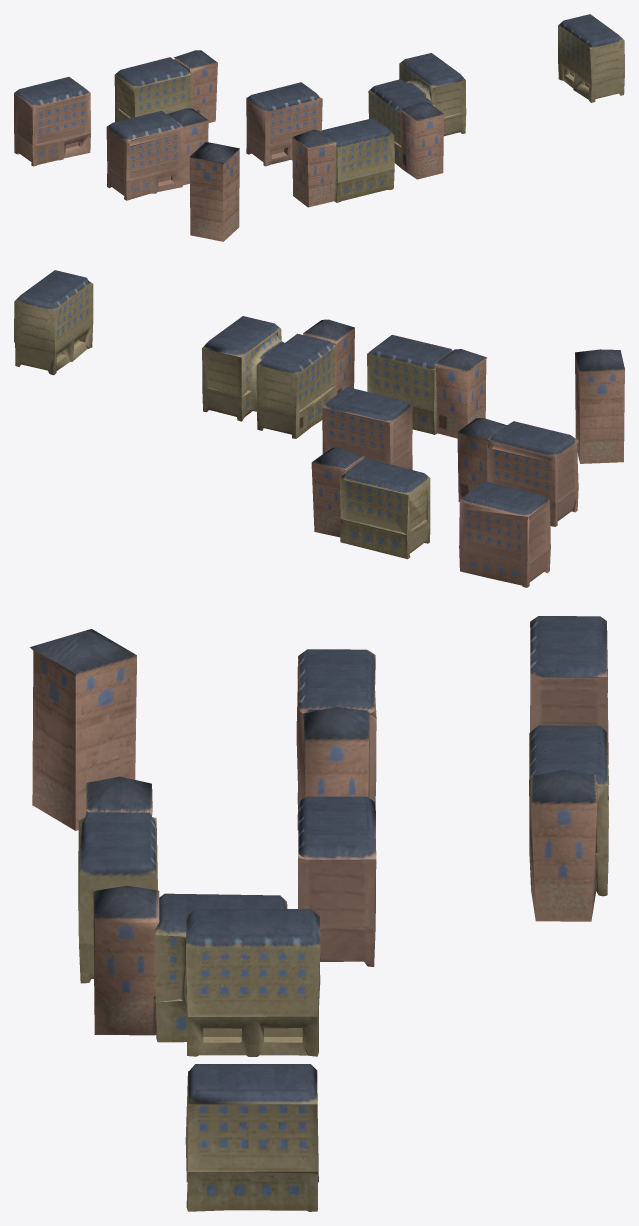
File: clod_c01_both_01_clod004.gltf
3 renders of one model, top to bottom at view 1: azimuth 30°, elevation 25°; view 2: azimuth 150°, elevation 25°; view 3: azimuth 270°, elevation 25°, orthographic. The views are drawn at different scales.
Visible parts, largest first — view 1: clod_c01_both_01_clod004_000_meshShape:remesh_mat; view 2: clod_c01_both_01_clod004_000_meshShape:remesh_mat; view 3: clod_c01_both_01_clod004_000_meshShape:remesh_mat.
Part boxes in pixels (x1,y1,x2,y2): clod_c01_both_01_clod004_000_meshShape:remesh_mat: [14, 14, 624, 241]; clod_c01_both_01_clod004_000_meshShape:remesh_mat: [14, 270, 624, 587]; clod_c01_both_01_clod004_000_meshShape:remesh_mat: [30, 616, 608, 1211].
Bounding box in the file's own units: 195 × 32.88 × 96.69.
1 material, 1 textured.
